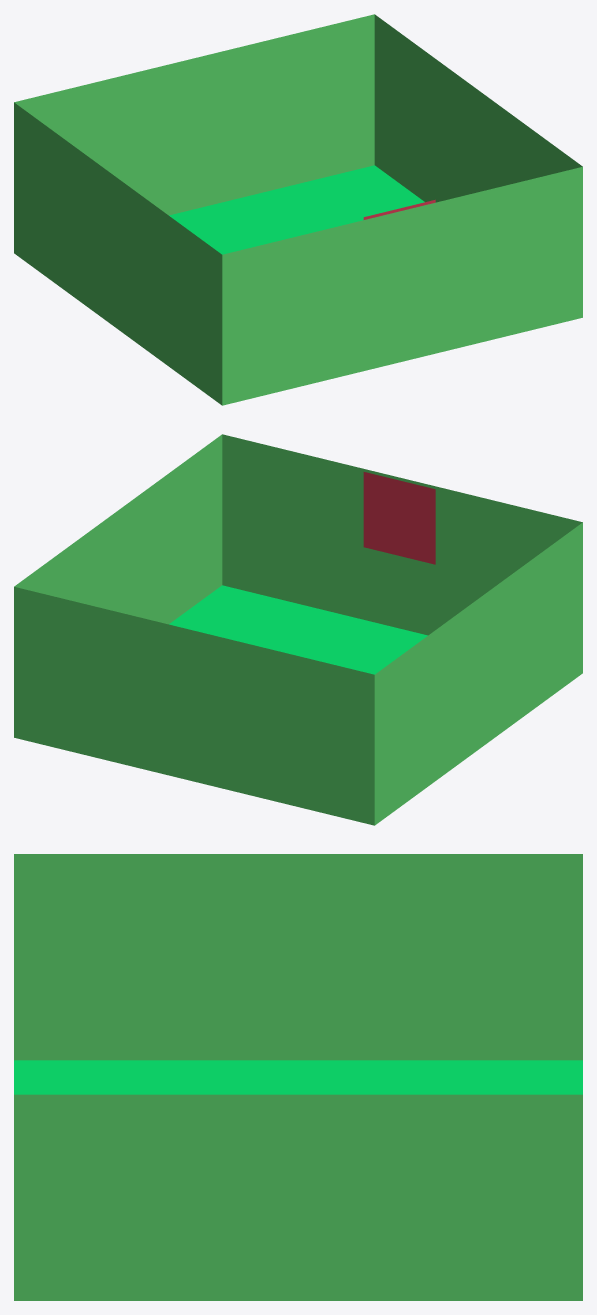
Rendered from room.glb.
3 renders of one model, top to bottom at view 1: azimuth 30°, elevation 25°; view 2: azimuth 150°, elevation 25°; view 3: azimuth 270°, elevation 25°, orthographic. The views are drawn at different scales.
Visible parts, largest first — view 1: Plane.001, Plane.002, Plane.003, Plane.004, Plane; view 2: Plane.002, Plane.001, Plane.003, Plane.004, Plane, Plane.005; view 3: Plane.003, Plane.004, Plane.
Part boxes in pixels (<box>): Plane.001: <box>222,167,582,405</box>; Plane.002: <box>14,14,374,215</box>; Plane.003: <box>14,102,222,405</box>; Plane.004: <box>374,14,582,202</box>; Plane: <box>169,165,424,254</box>; Plane.002: <box>14,587,374,825</box>; Plane.001: <box>222,434,582,635</box>; Plane.003: <box>374,522,582,825</box>; Plane.004: <box>14,434,222,624</box>; Plane: <box>169,585,427,674</box>; Plane.005: <box>363,472,435,564</box>; Plane.003: <box>14,854,582,1060</box>; Plane.004: <box>14,1094,582,1300</box>; Plane: <box>14,1060,582,1094</box>.
Size of the model in its own units: 10 by 4 by 10.
